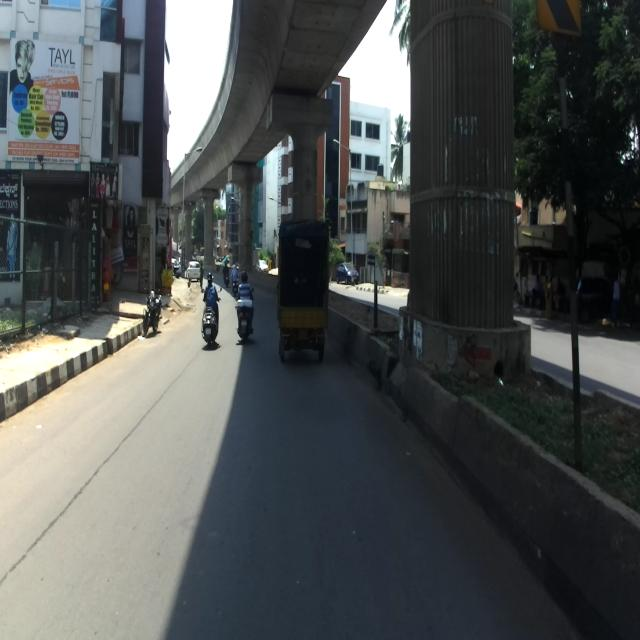truck ahead at: (282, 218, 331, 368)
